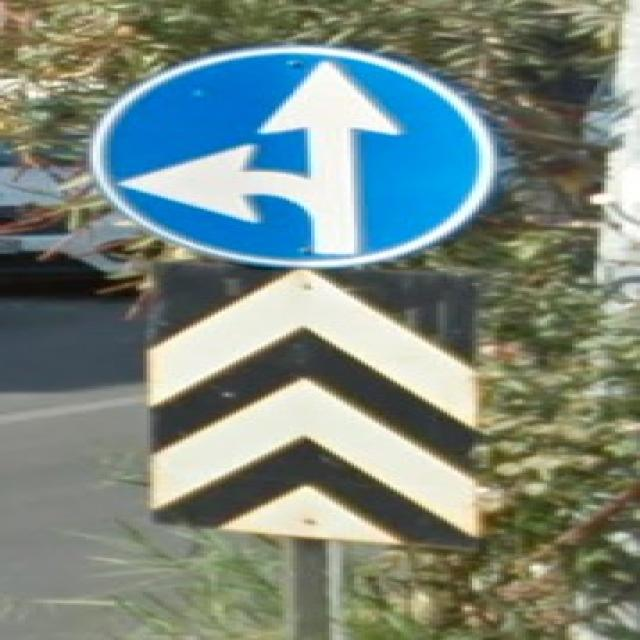Straight or Left: (94, 50, 498, 267)
